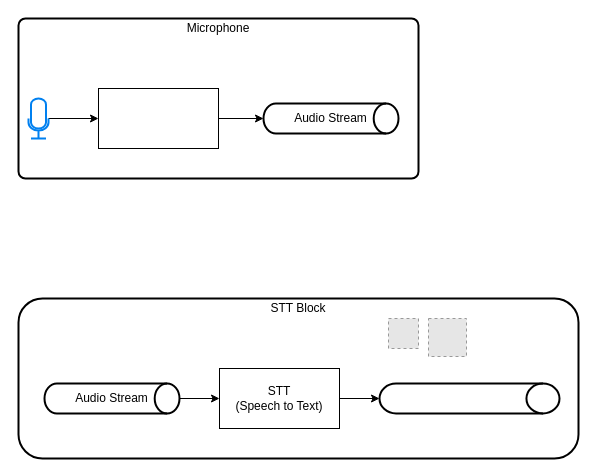
This 596x476 diagram has some shape labels left out. Grey dashed boxes stand in for pictures. The box of each missing label's shape, as (x1, y1, x2, y2) in pixels:
Create Stream: (98, 88, 218, 148)
Text Output Stream: (378, 382, 560, 414)
